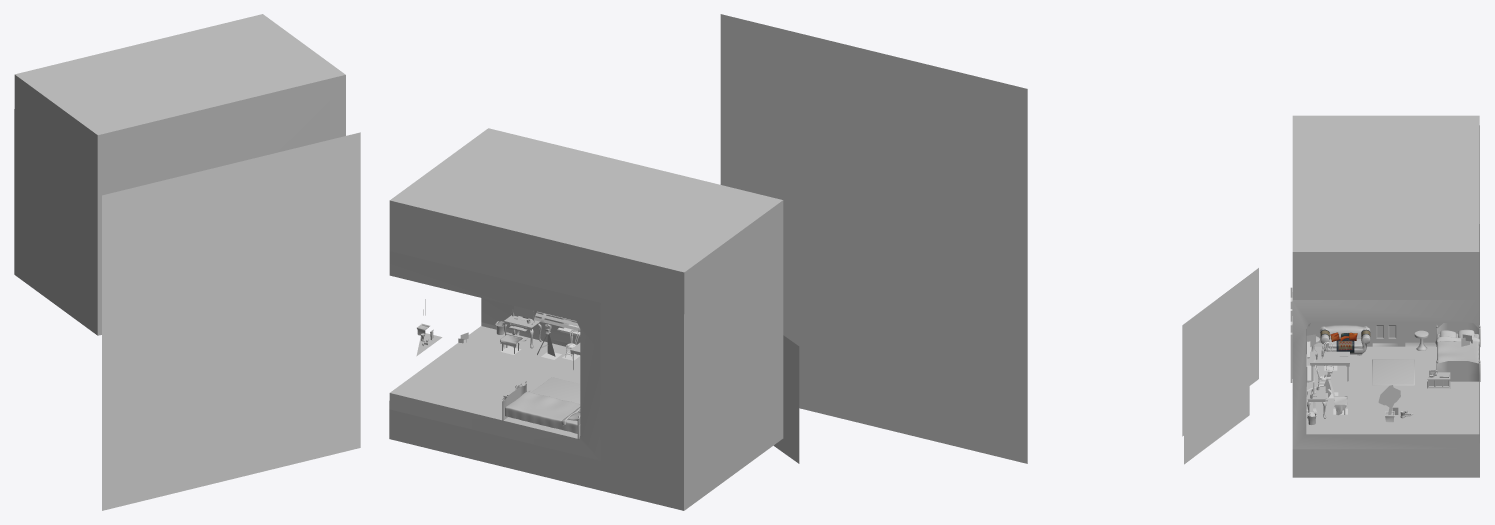
The model's file is Room.FBX.
3 views of the same model, side by side, from view 1: azimuth 30°, elevation 25°; view 2: azimuth 150°, elevation 25°; view 3: azimuth 270°, elevation 25° (orthographic). The views are drawn at different scales.
Parts seen in each view (by area): view 1: House, Room; view 2: Room, House, Tree2, Bed_matt, Rug; view 3: Room, Tree1, Tree2, Bed_railingF, Rug, Bed_matt, Couch001, Table, Door001.
Boxes of the visible parts, x1,y1,x2,y2 form: House: [102, 132, 360, 510]; Room: [14, 14, 345, 335]; Room: [389, 128, 783, 510]; House: [720, 14, 1027, 463]; Tree2: [773, 335, 799, 463]; Bed_matt: [505, 391, 580, 433]; Rug: [531, 377, 580, 403]; Room: [1292, 115, 1479, 477]; Tree1: [1184, 311, 1249, 464]; Tree2: [1182, 268, 1258, 436]; Bed_railingF: [1436, 323, 1480, 381]; Rug: [1372, 359, 1414, 385]; Bed_matt: [1437, 333, 1479, 363]; Couch001: [1319, 325, 1370, 355]; Table: [1310, 351, 1349, 381]; Door001: [1372, 323, 1399, 343].
Bounding box in the file's own units: 1560 × 1287 × 1395.
29 materials, 2 textured.
